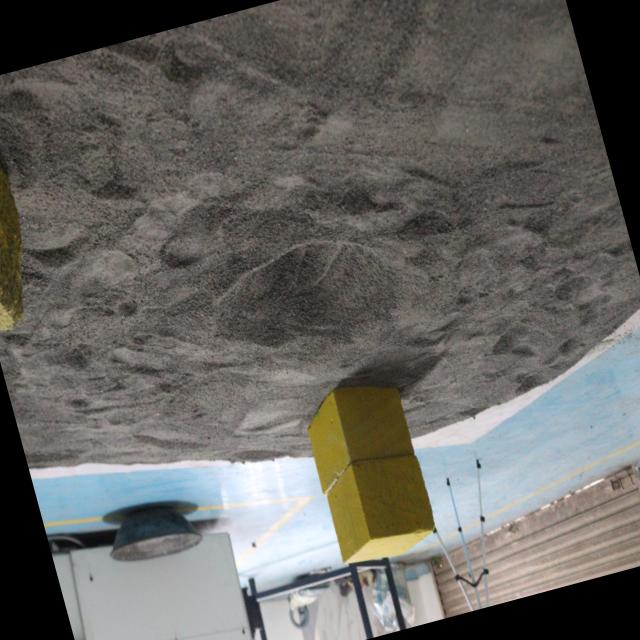box: (292, 367, 444, 576)
crater: (192, 196, 434, 398)
